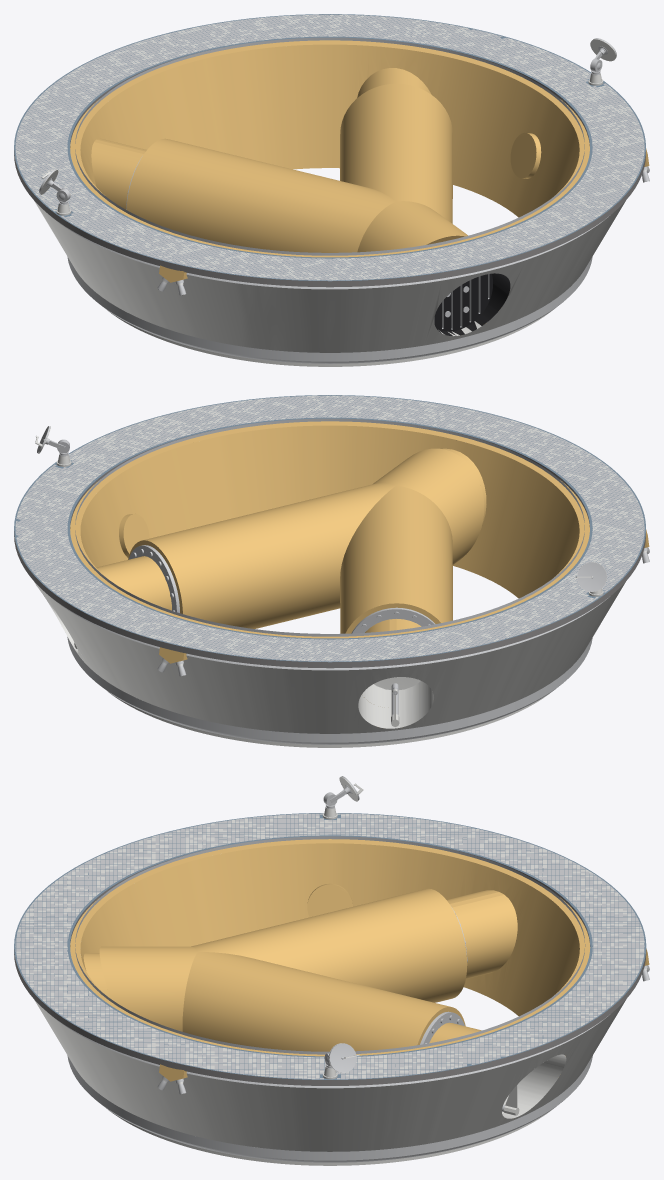
The model's file is lisa.glb.
3 renders of one model, top to bottom at view 1: azimuth 30°, elevation 25°; view 2: azimuth 150°, elevation 25°; view 3: azimuth 270°, elevation 25°, orthographic.
Visible parts, largest first — view 1: Layer_0; view 2: Layer_0; view 3: Layer_0.
Boxes of the visible parts, box(x1,y1,x2,y2) form: Layer_0: box(14, 14, 649, 366); Layer_0: box(14, 395, 649, 747); Layer_0: box(14, 776, 649, 1165).
Bounding box in the file's own units: 2.59 × 0.6508 × 2.49.
